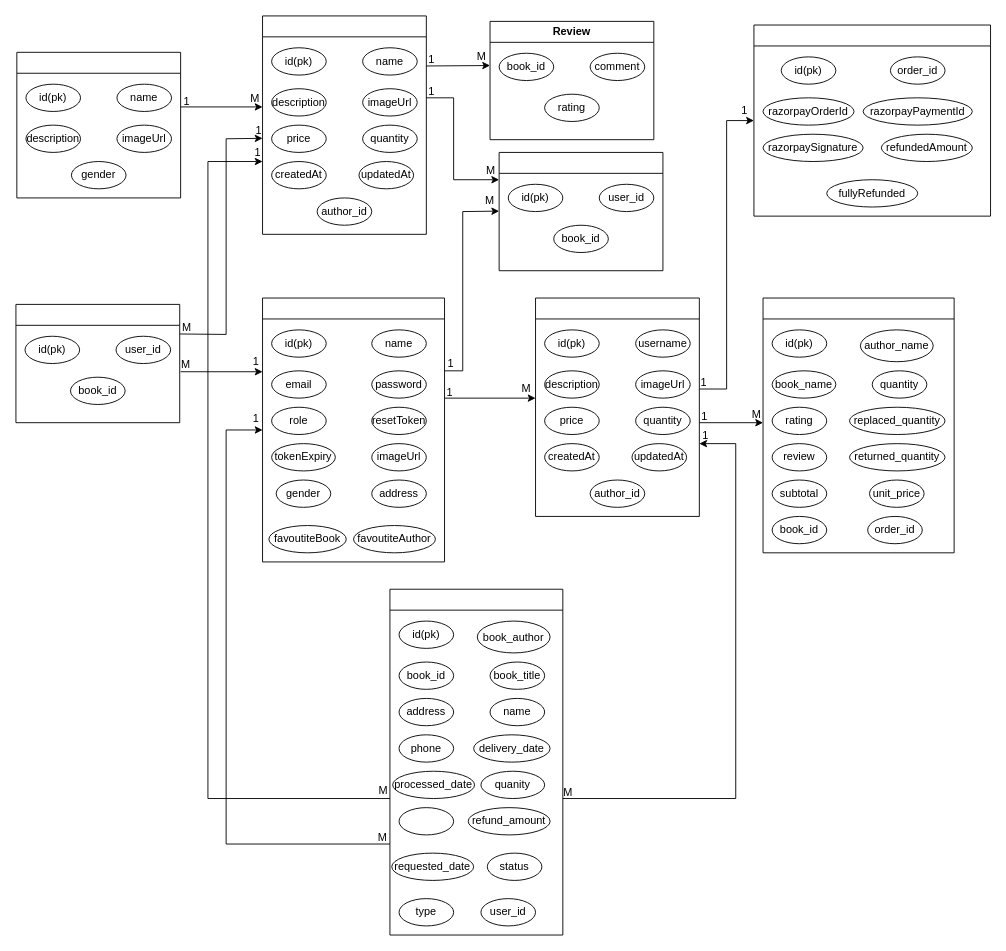
Some shapes in this 1006 by 951 pixel diagram are drawn without their labels. Each missing label, with the box of its shape:
Author: (16, 51, 181, 198)
Book: (262, 15, 426, 234)
Cart: (498, 152, 663, 271)
OrderItem: (762, 297, 954, 553)
Orders: (535, 297, 699, 516)
RazerPay Info: (753, 24, 991, 216)
reason: (398, 807, 454, 835)
Return/Replacement: (389, 588, 563, 935)
User: (262, 297, 445, 562)
WishList: (15, 303, 180, 423)
